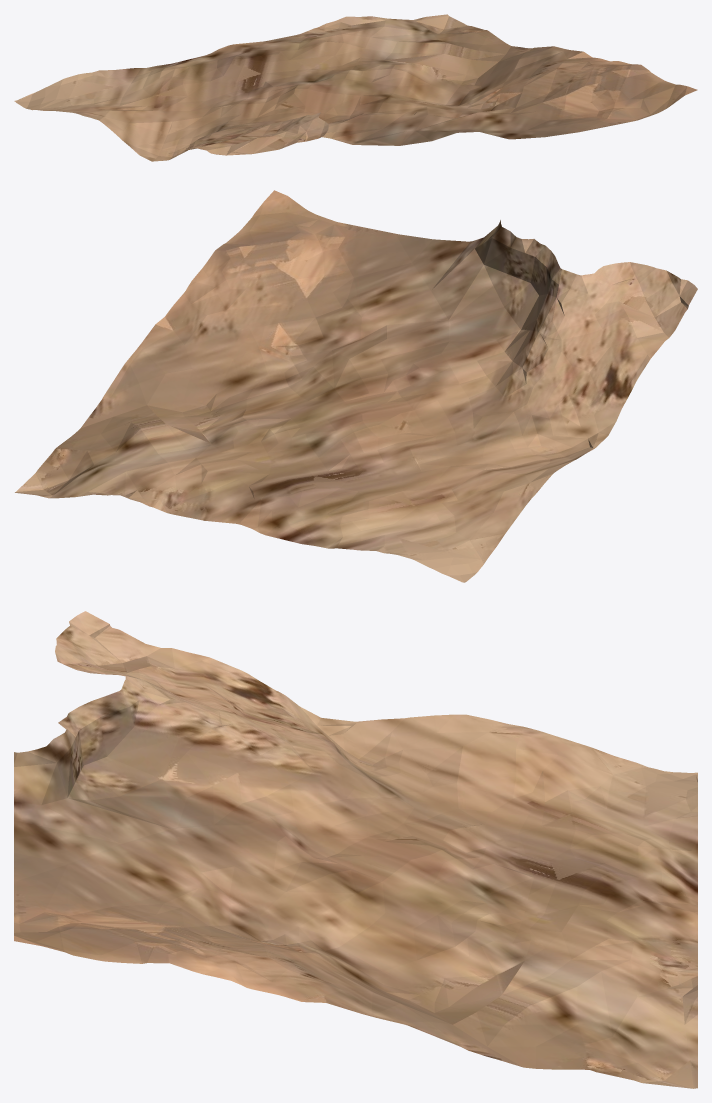
The picture shows the model from 3 angles, top to bottom: view 1: azimuth 30°, elevation 25°; view 2: azimuth 150°, elevation 25°; view 3: azimuth 270°, elevation 25°; orthographic projection. The views are drawn at different scales.
Bounding box in the file's own units: 1.04 × 0.322 × 1.04.
Materials: 2 (2 with a texture image).
